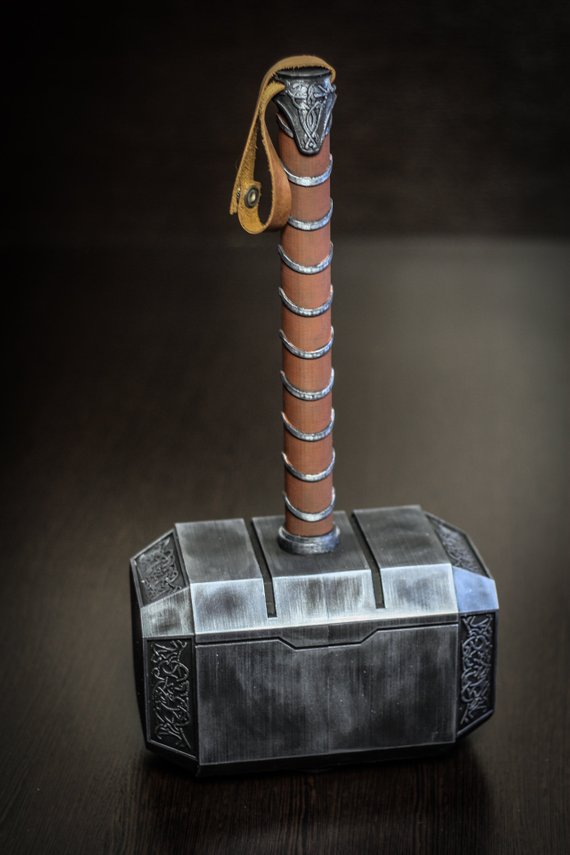THOR Hammer: (121, 41, 513, 781)
